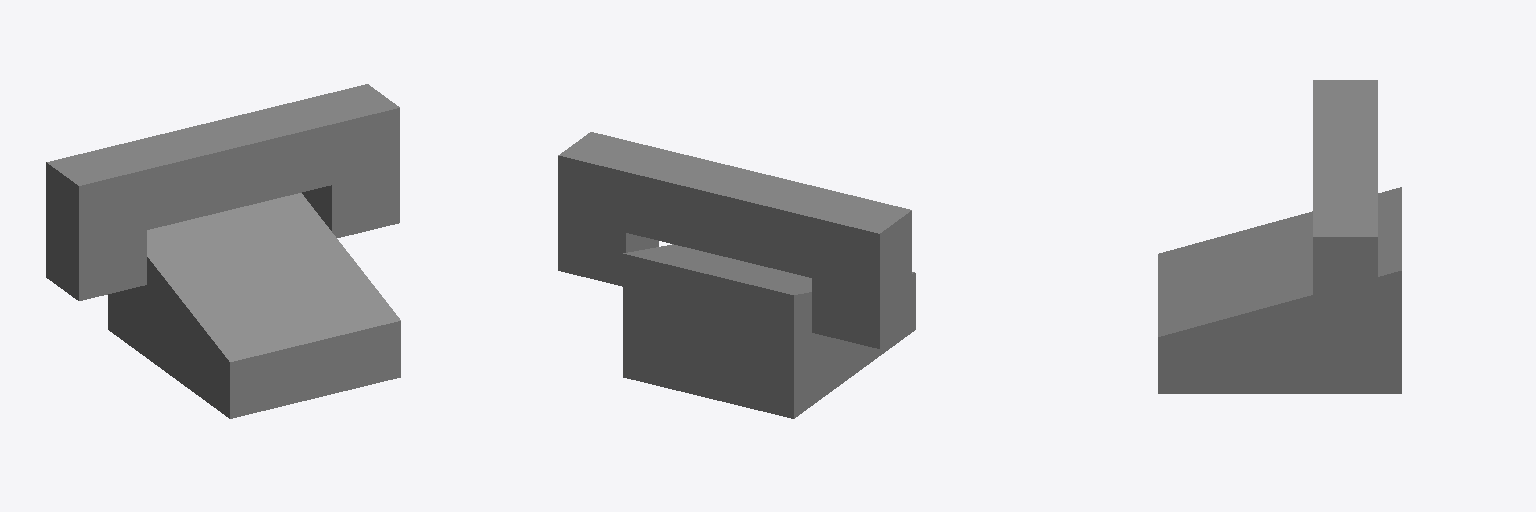
File: telefon.obj
3 views of the same model, side by side, from view 1: azimuth 30°, elevation 25°; view 2: azimuth 150°, elevation 25°; view 3: azimuth 270°, elevation 25° (orthographic).
Parts seen in each view (by area): view 1: telefon; view 2: telefon; view 3: telefon.
Boxes of the visible parts, x1=… form: telefon: x1=46, y1=84, x2=400, y2=418; telefon: x1=558, y1=132, x2=915, y2=418; telefon: x1=1158, y1=80, x2=1401, y2=393.
Size of the model in its own units: 33.59 by 19.4 by 22.16.